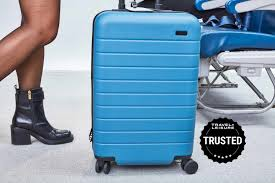suitcase: (90, 10, 203, 175)
